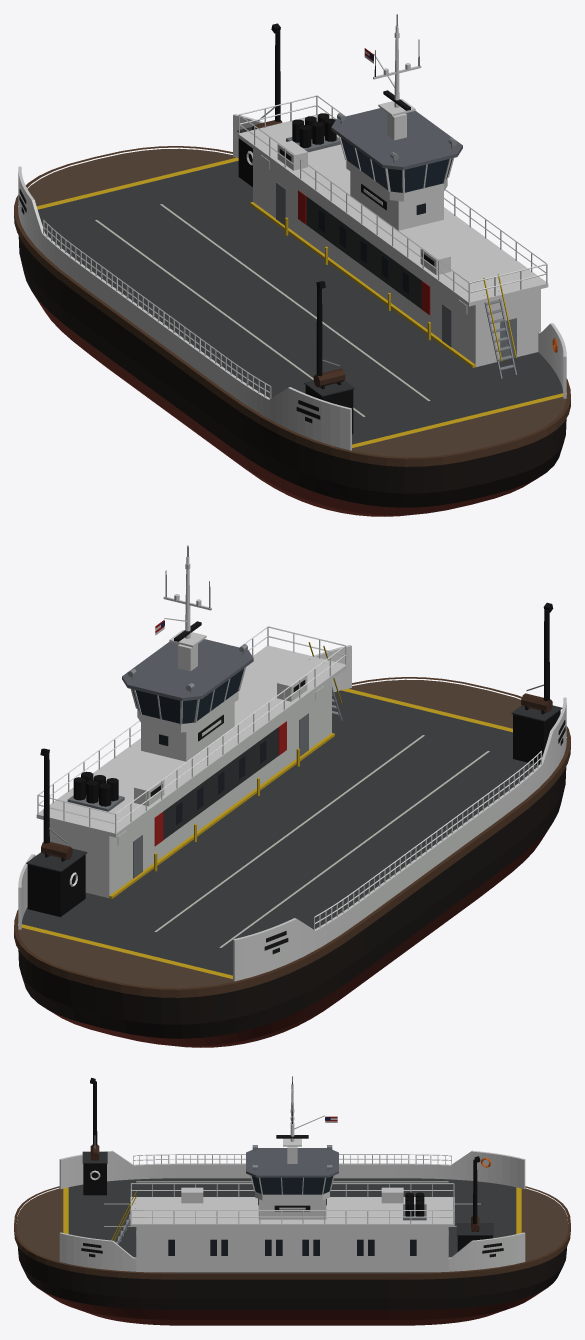
File: guemes_mid.glb
3 views of the same model, one above another, from view 1: azimuth 30°, elevation 25°; view 2: azimuth 150°, elevation 25°; view 3: azimuth 270°, elevation 25° (orthographic). The views are drawn at different scales.
Parts seen in each view (by area): view 1: fixed, thinshadow, glass, window; view 2: fixed, thinshadow, glass, window; view 3: fixed, thinshadow, glass, window.
Boxes of the visible parts, left/top/right/bottom form: fixed: left=14, top=23, right=570, bottom=516; thinshadow: left=43, top=14, right=547, bottom=399; glass: left=341, top=137, right=452, bottom=192; window: left=318, top=203, right=425, bottom=294; fixed: left=14, top=556, right=570, bottom=1047; thinshadow: left=37, top=545, right=543, bottom=929; glass: left=132, top=668, right=243, bottom=723; window: left=159, top=734, right=266, bottom=825; fixed: left=14, top=1077, right=570, bottom=1325; thinshadow: left=94, top=1076, right=454, bottom=1240; glass: left=252, top=1176, right=332, bottom=1194; window: left=168, top=1199, right=416, bottom=1255.
Size of the model in its own units: 15.88 by 18.35 by 37.8.
